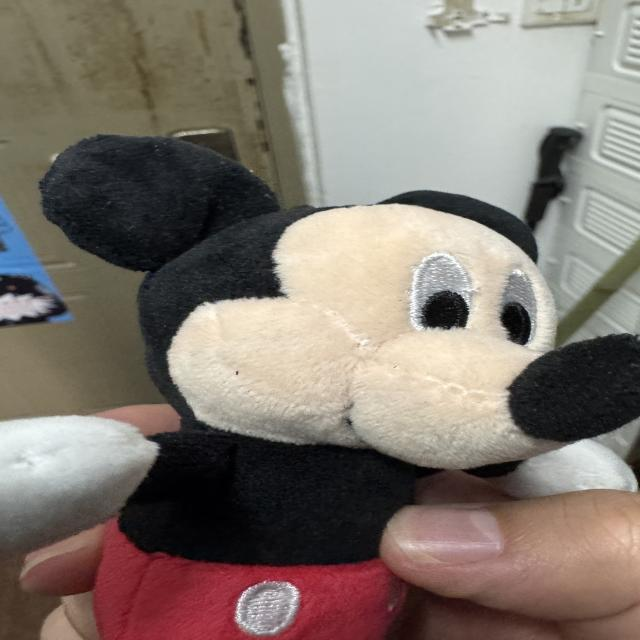mickey: (0, 136, 639, 639)
